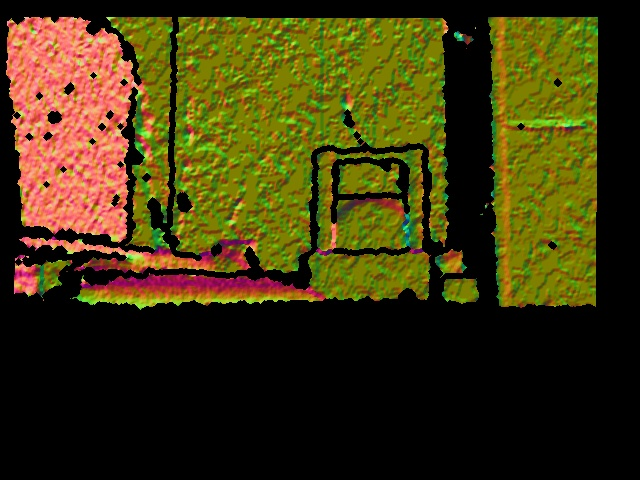station: (309, 146, 432, 298)
